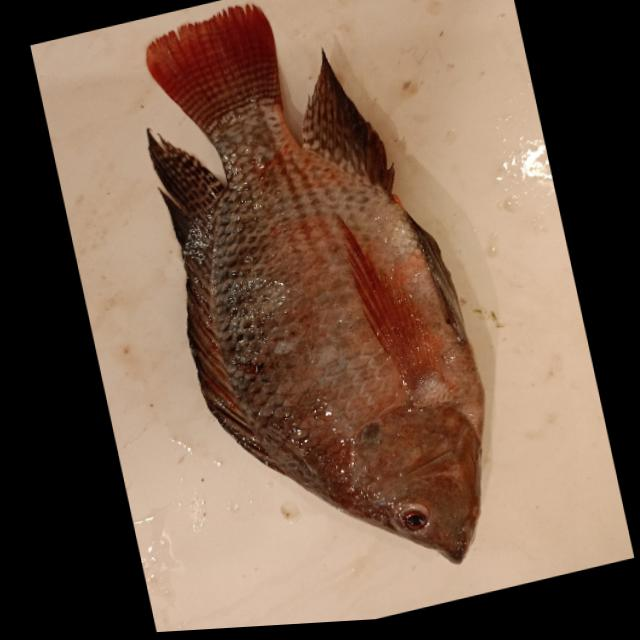Tilapia: (121, 0, 521, 618)
